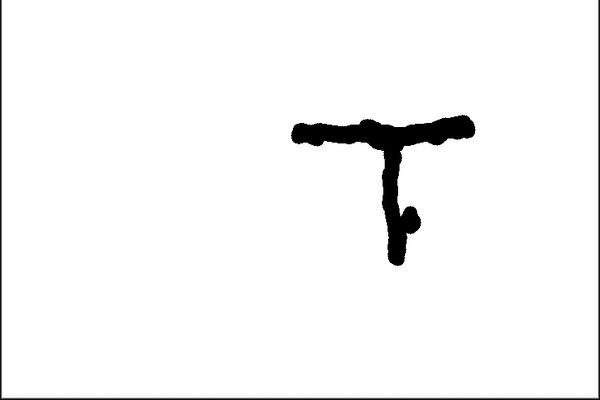T: (285, 101, 480, 273)
